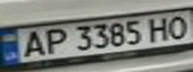3: (69, 22, 93, 52), (90, 20, 112, 50)
5: (124, 17, 148, 45)
8: (106, 19, 130, 47)
A: (15, 28, 48, 58)
H: (142, 15, 175, 43)
O: (163, 12, 193, 39)
P: (39, 26, 69, 56)
